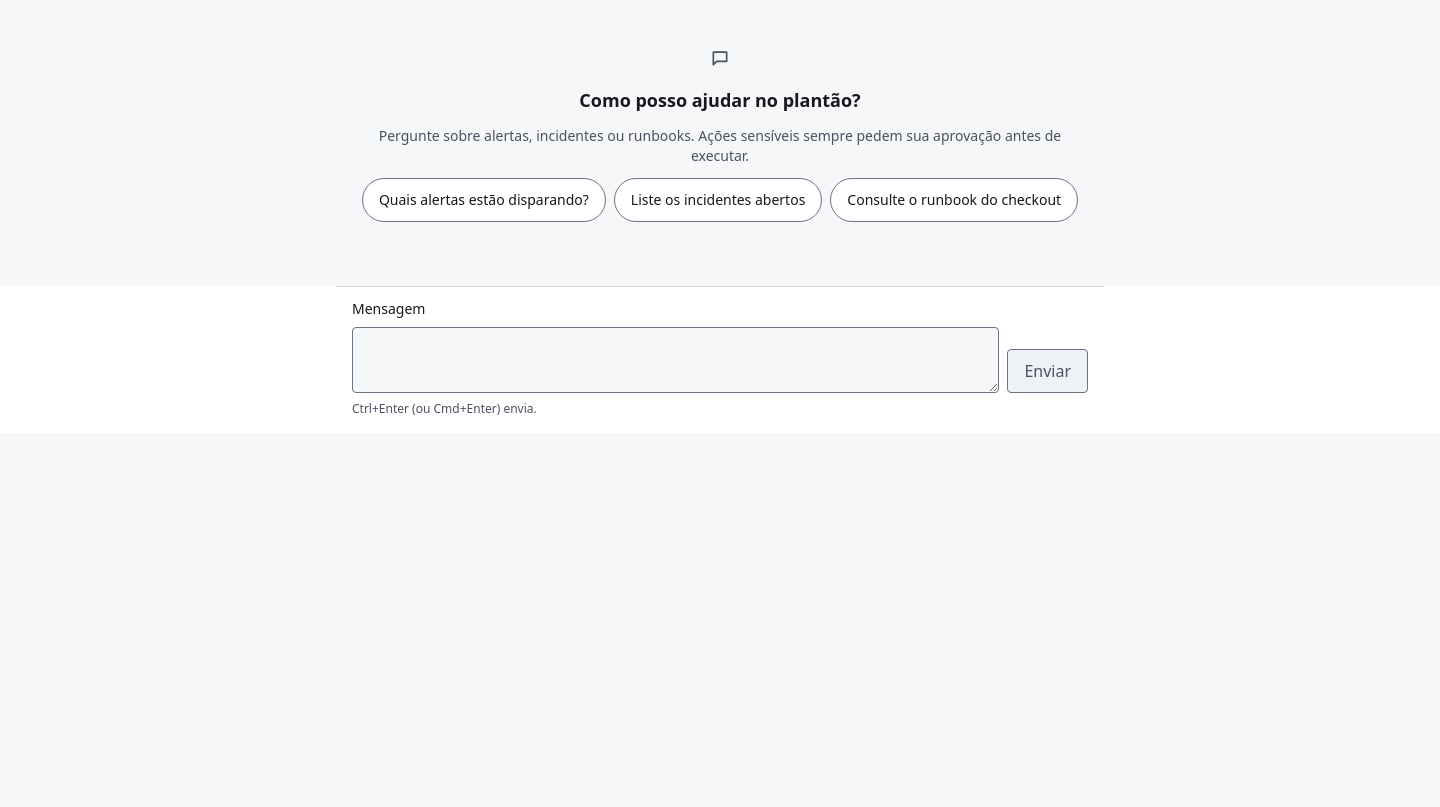
Scenario: ApprovalCard › Negar shows Negado
Type "resolva o inc-1" into the text box labelled "Mensagem".
click(676, 360); type("resolva o inc-1")  # box [352,327,999,393]
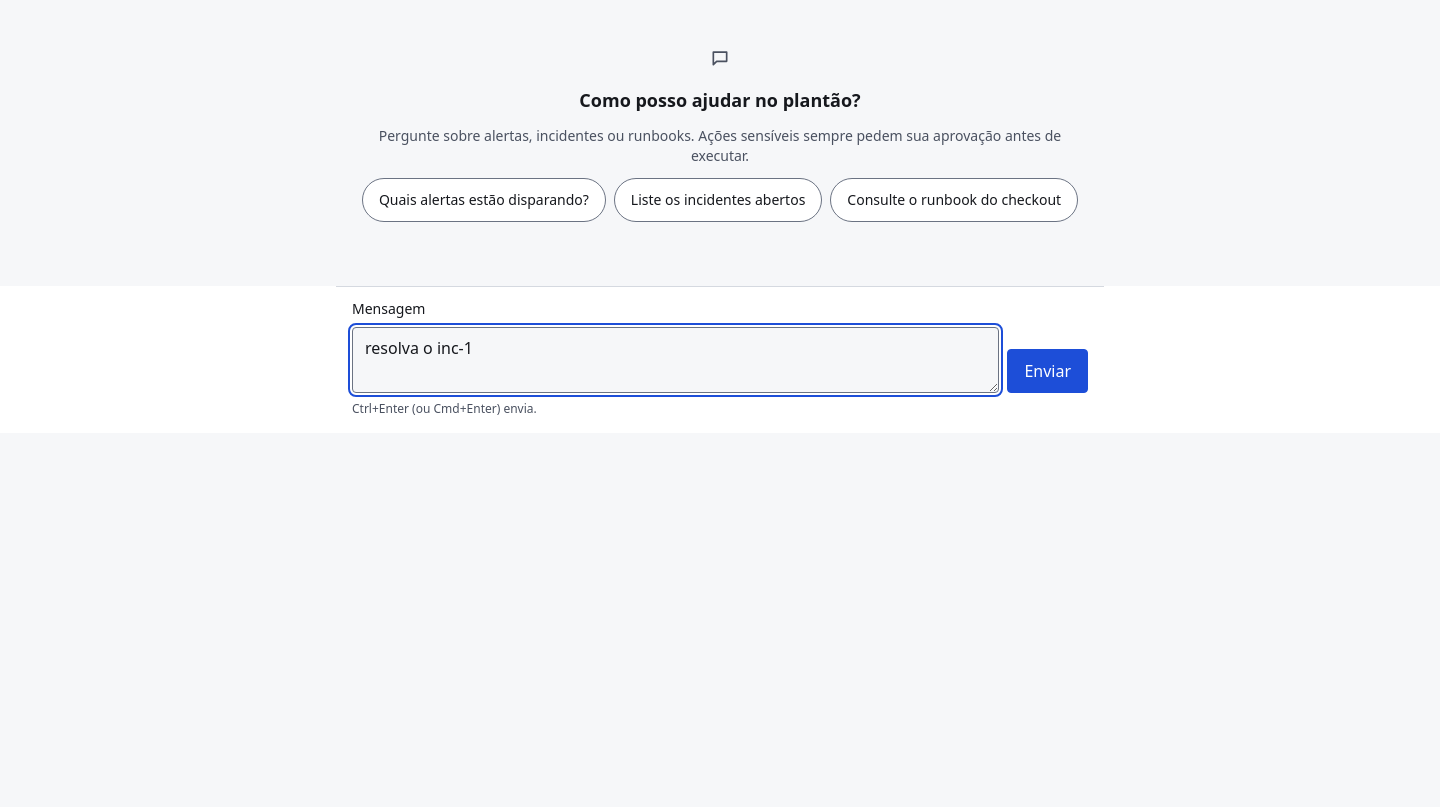
Click the button "Enviar".
click(1048, 371)  # box [1007,349,1088,393]
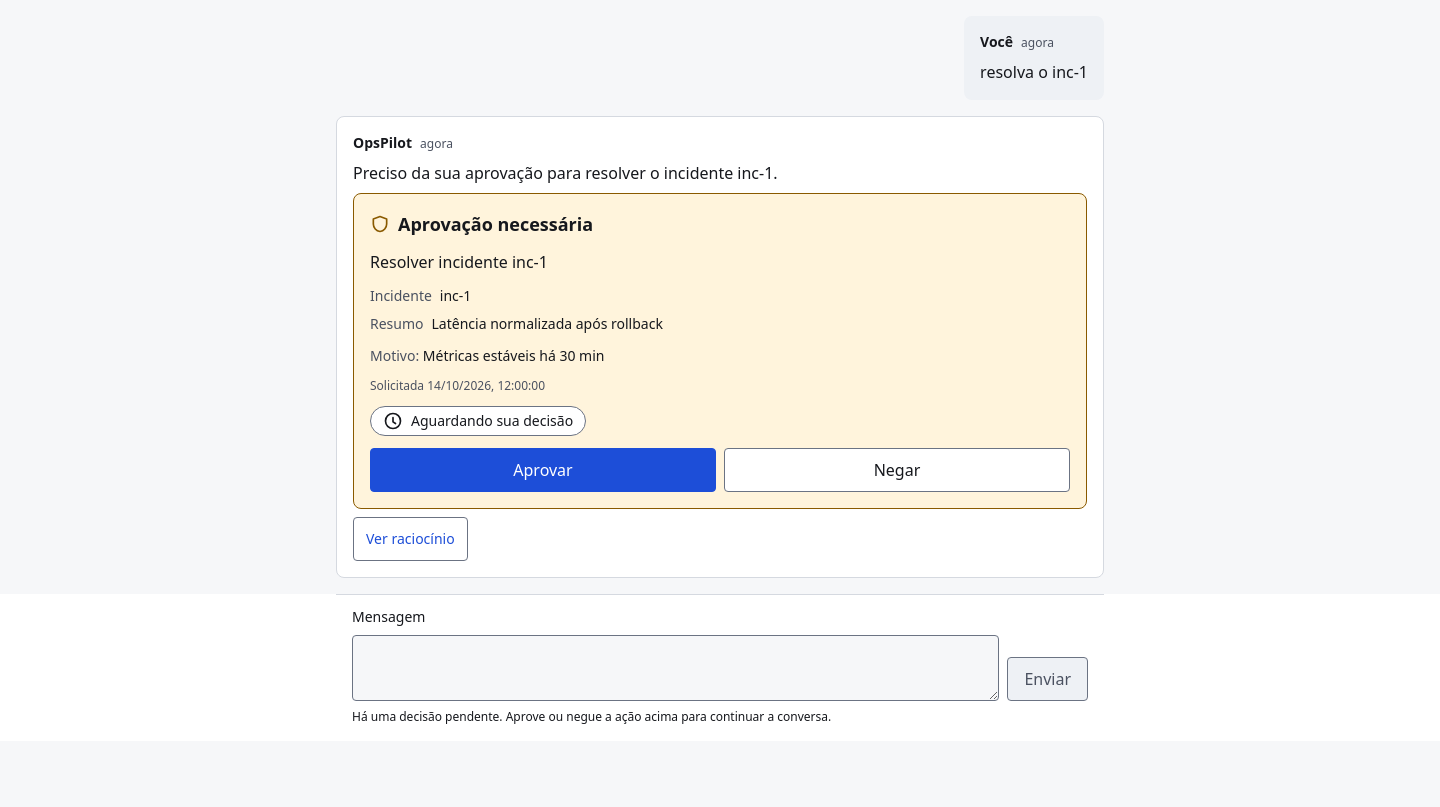
Click the button "Negar".
click(897, 470)  # box [724,448,1070,492]
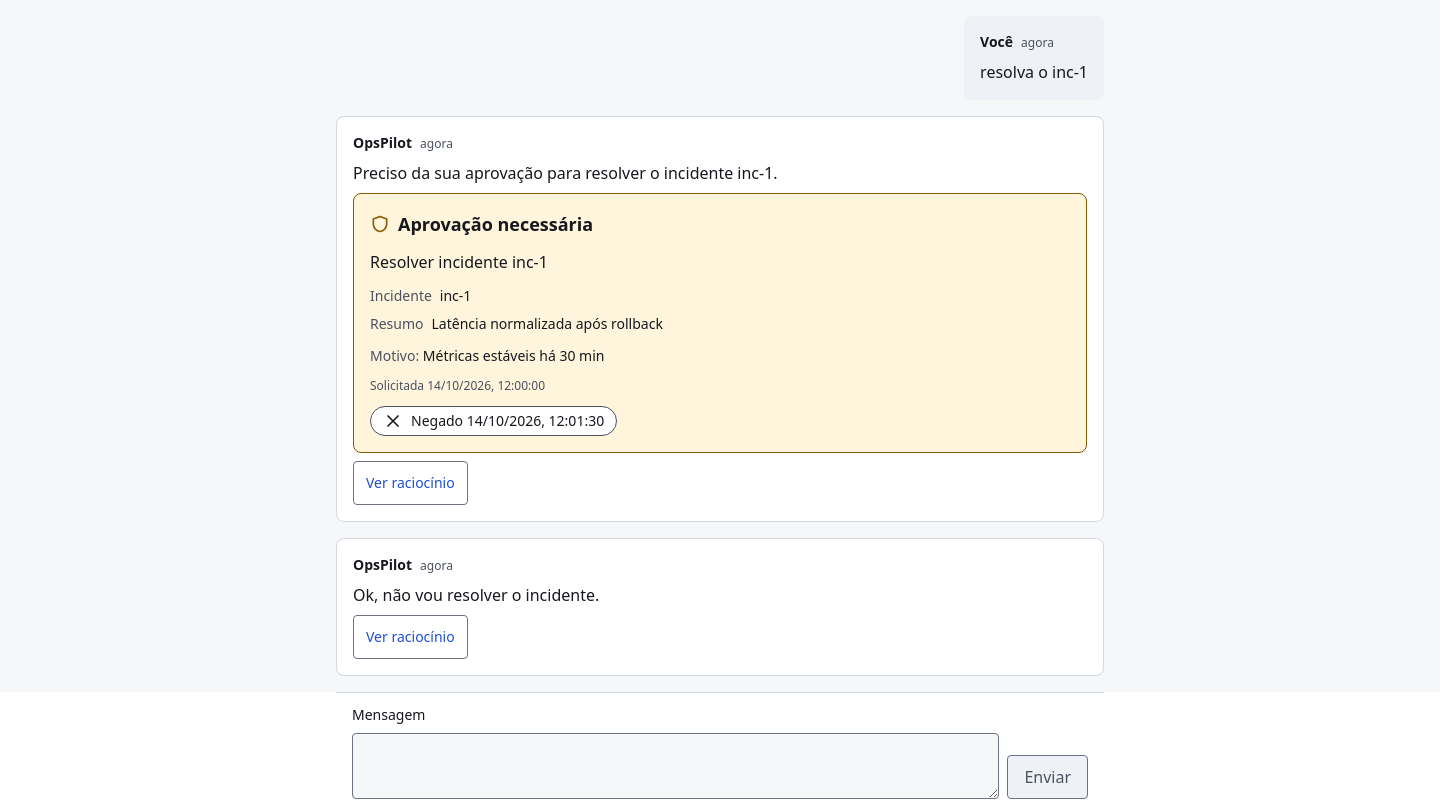
Check: the text "Negado" is shown, box [411,411,463,430]
Check: the text "Ok, não vou resolver o incidente." is shown, box [353,584,599,606]
